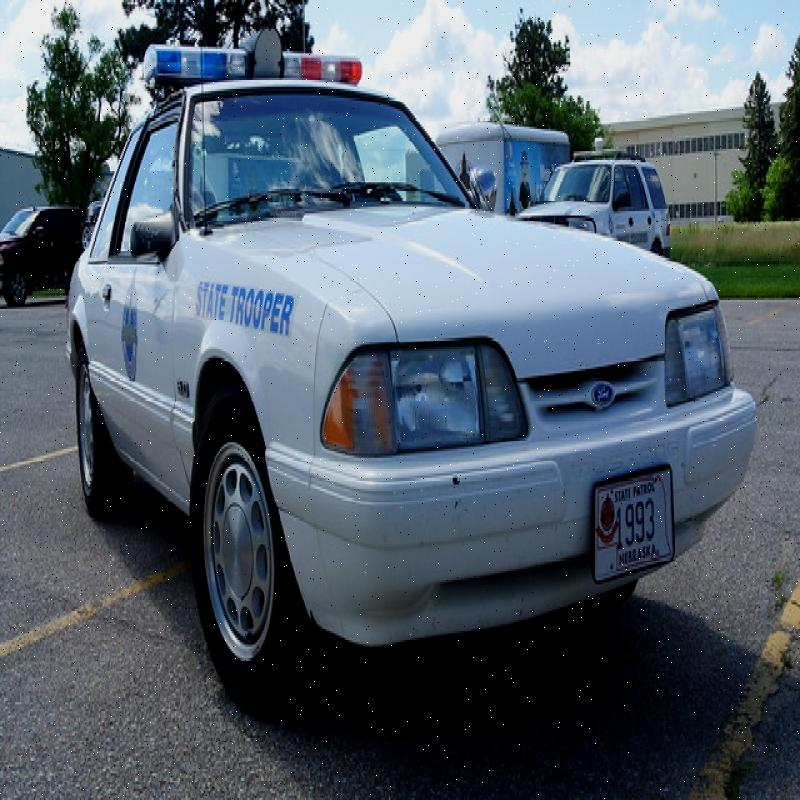AmbulanceSiren: (148, 21, 376, 100)
